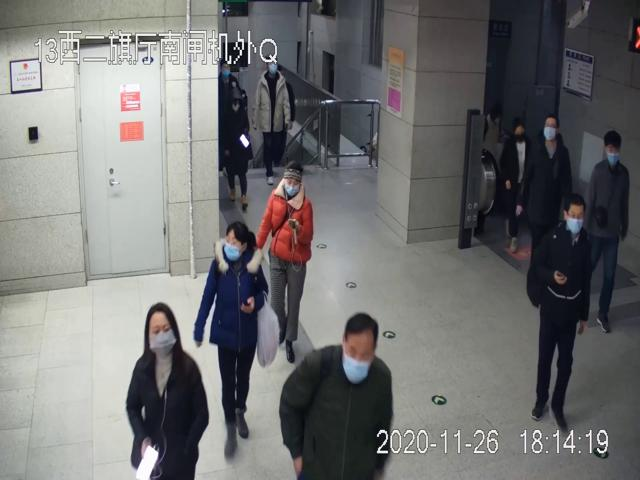person: (278, 311, 395, 480), (195, 219, 269, 460), (526, 194, 592, 432), (126, 302, 209, 480), (256, 162, 314, 363), (587, 130, 630, 332), (252, 53, 292, 186), (220, 87, 251, 209)
